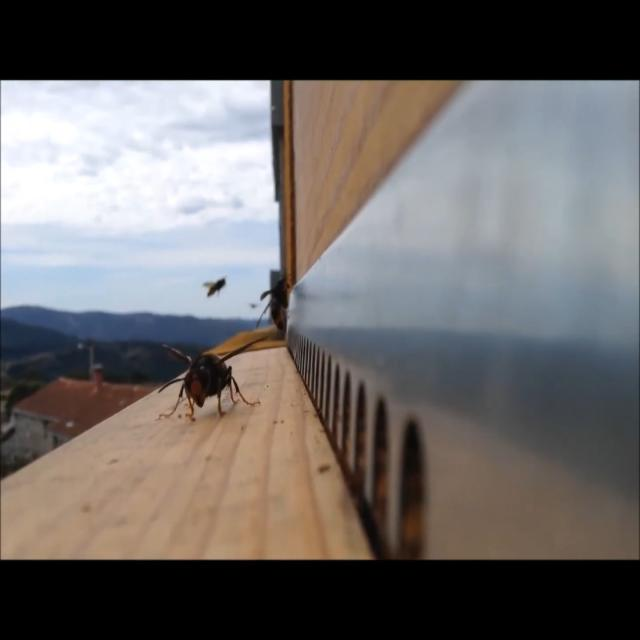Hornets: (156, 342, 267, 418), (250, 278, 288, 342)
